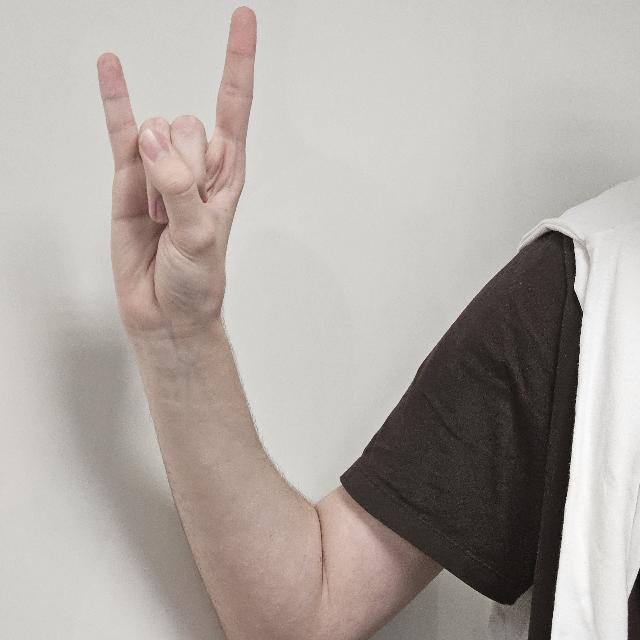L: (99, 8, 257, 338)
